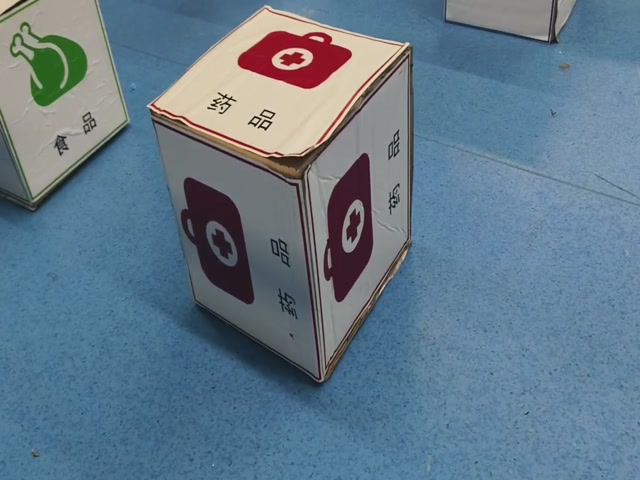Cube_medicine: (146, 1, 415, 174)
